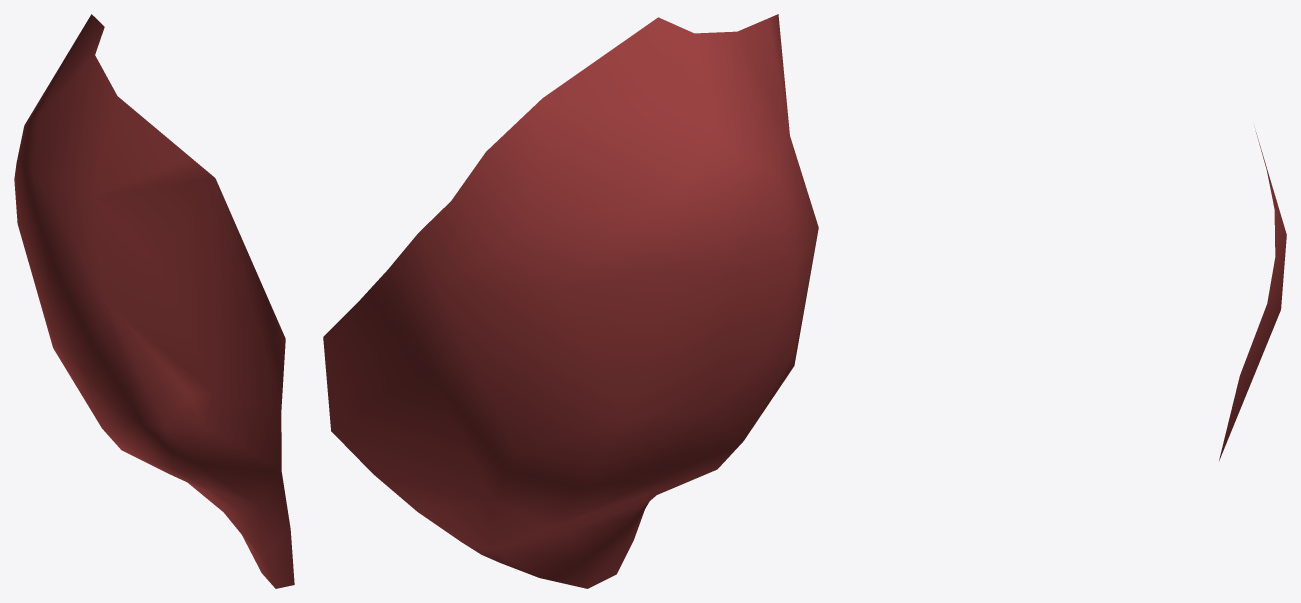
The model's file is iliopsoas-muscle-el.glb.
3 views of the same model, side by side, from view 1: azimuth 30°, elevation 25°; view 2: azimuth 150°, elevation 25°; view 3: azimuth 270°, elevation 25° (orthographic). The views are drawn at different scales.
Parts seen in each view (by area): view 1: Iliopsoas muscle.el; view 2: Iliopsoas muscle.el; view 3: Iliopsoas muscle.el.
Boxes of the visible parts, box(x1,y1,x2,y2) form: Iliopsoas muscle.el: box(14, 14, 294, 588); Iliopsoas muscle.el: box(323, 14, 818, 588); Iliopsoas muscle.el: box(1219, 131, 1286, 460).
Bounding box in the file's own units: 0.0148 × 0.0253 × 0.0193.
